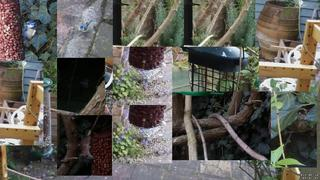blue tit: (20, 20, 37, 45), (78, 20, 93, 39)
mouse: (79, 135, 92, 160)
